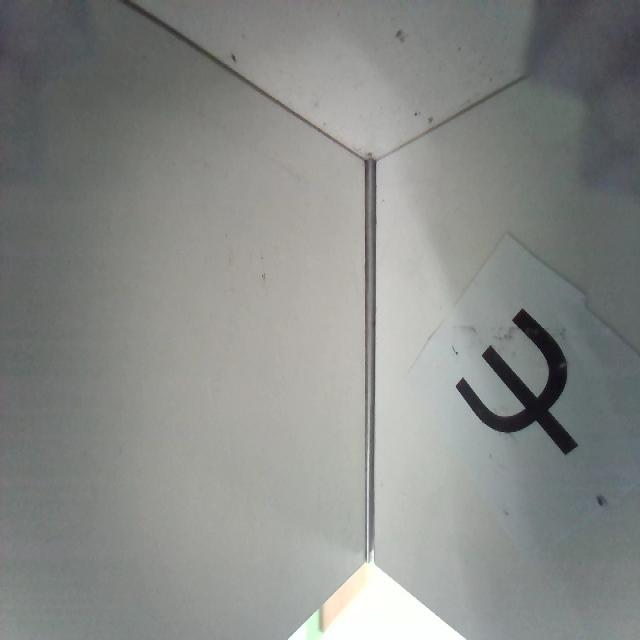nedoF: (453, 306, 578, 455)
